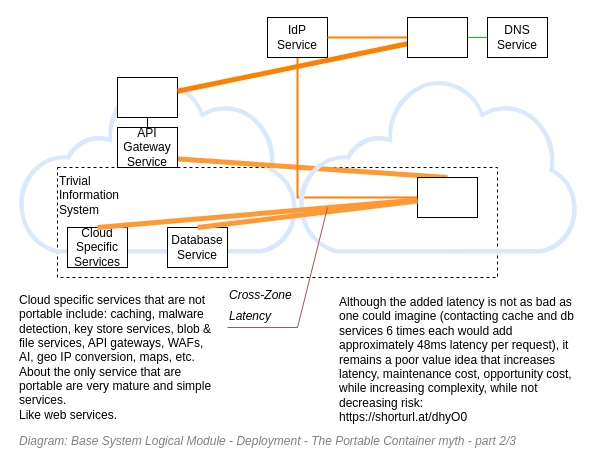
The diagram is 594 pixels wide and 475 high, and some of its shapes have lost their labels. The shapes that lost their labels are listed below. From the top down, each one's box as (x1, y1, x2, y2) in pixels, then its label:
(406, 16, 468, 58): Service Client
(116, 76, 178, 118): WAF Service
(416, 176, 478, 218): Container based Web Service
